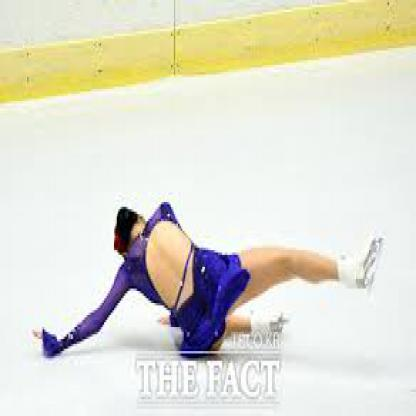Fall_Down: (32, 192, 387, 364)
